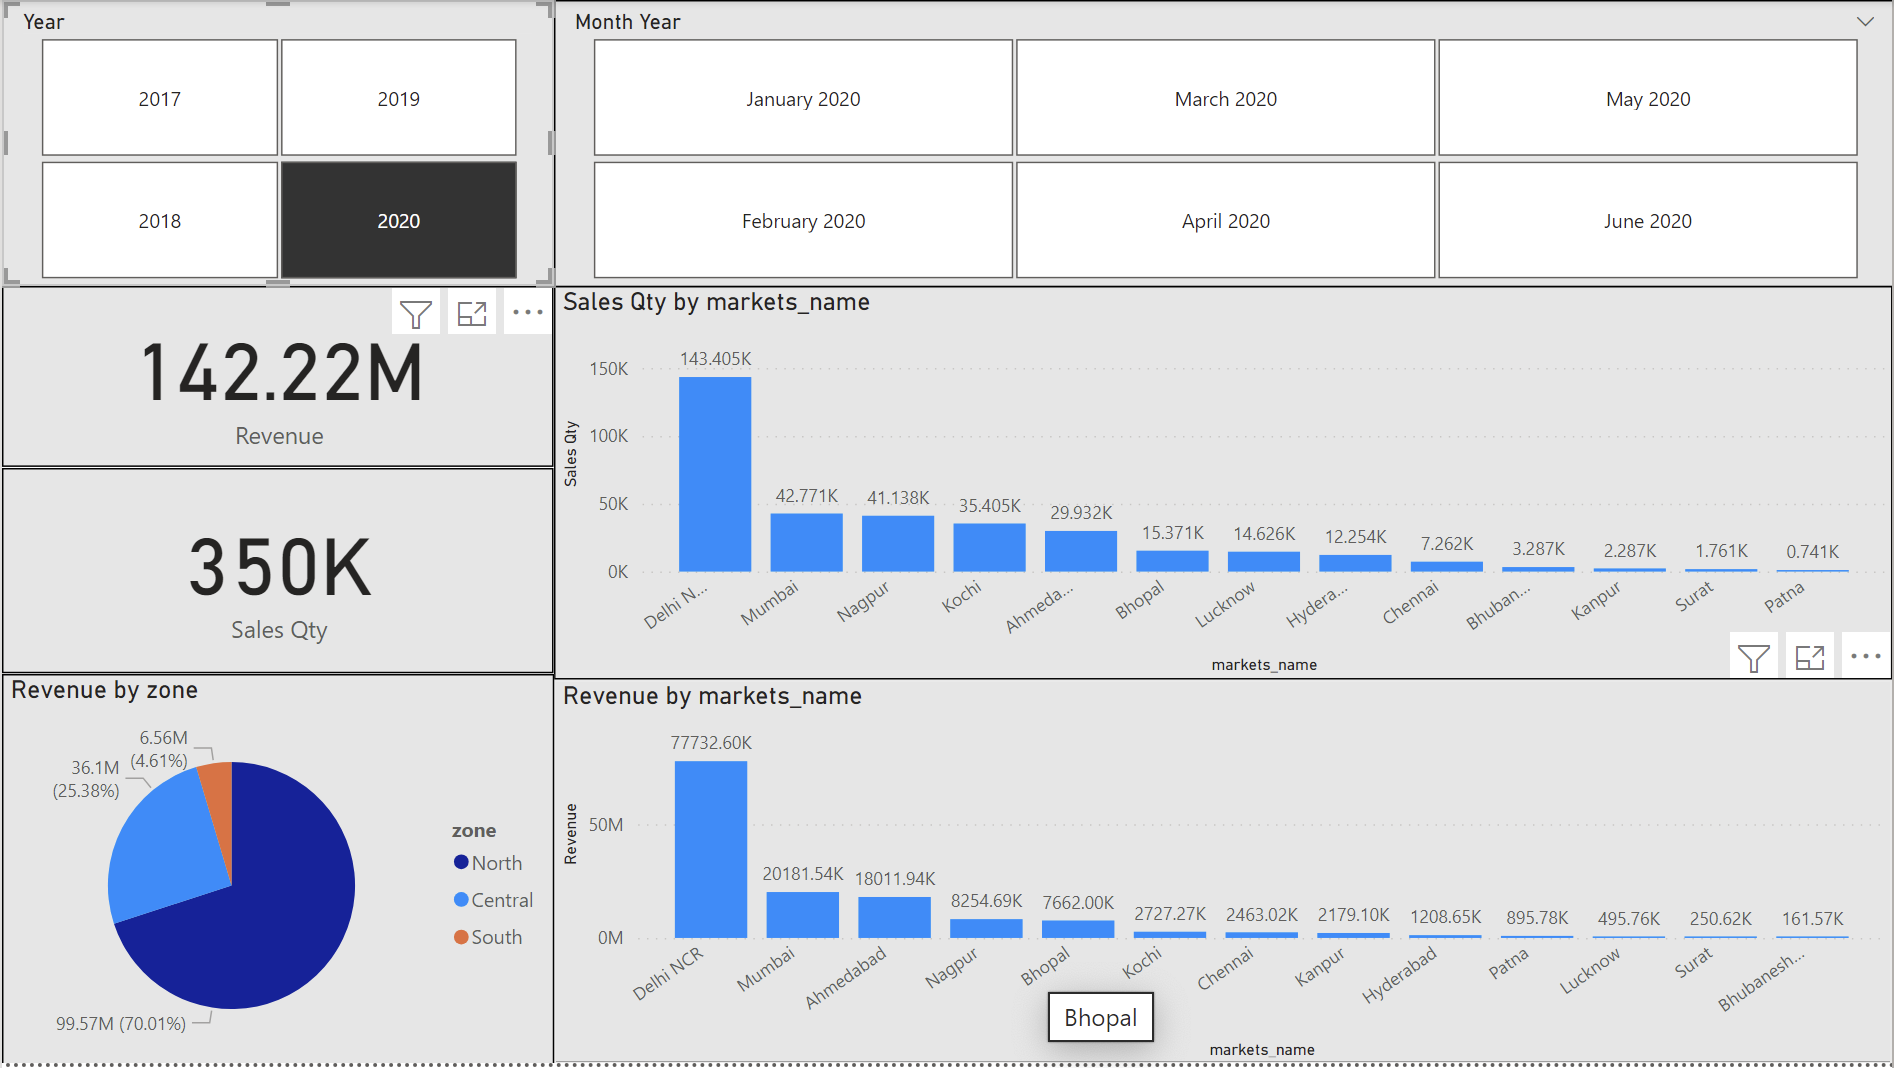

The page's visual inventory and layout, read from the dashboard file:
{"tool":"powerbi","page":{"name":"Page 1","canvas":[1280,720],"ordinal":0},"visuals":[{"type":"slicer","fields":{"Values":["sales date.cy_date"]},"box":[374.1,14.1,907.7,177.4],"z":3},{"type":"slicer","fields":{"Values":["sales date.year"]},"box":[43,43,300.7,150.3],"z":4},{"type":"card","fields":{"Values":["Base Measures.Revenue"]},"box":[43,258,301,150],"z":5},{"type":"card","fields":{"Values":["Base Measures.Sales Qty"]},"box":[43,473,301,150],"z":6},{"type":"clusteredColumnChart","fields":{"Category":["sales markets.markets_name"],"Y":["Base Measures.Sales Qty"]},"box":[373.6,211.1,882.9,248],"z":7},{"type":"clusteredColumnChart","fields":{"Category":["sales markets.markets_name"],"Y":["Base Measures.Revenue"]},"box":[373.6,472.5,882.9,217.8],"z":8}]}

Visuals, with their boxes in screenshot pixels (x1, y1, x2, y2), scaled from the page's 1280x720 canvas onto the 1894x1068 screenshot:
slicer - sales date.cy_date: Rect(554, 21, 1893, 284)
slicer - sales date.year: Rect(64, 64, 509, 287)
card - Base Measures.Revenue: Rect(64, 383, 509, 605)
card - Base Measures.Sales Qty: Rect(64, 702, 509, 924)
clusteredColumnChart - sales markets.markets_name x Base Measures.Sales Qty: Rect(553, 313, 1859, 681)
clusteredColumnChart - sales markets.markets_name x Base Measures.Revenue: Rect(553, 701, 1859, 1024)
